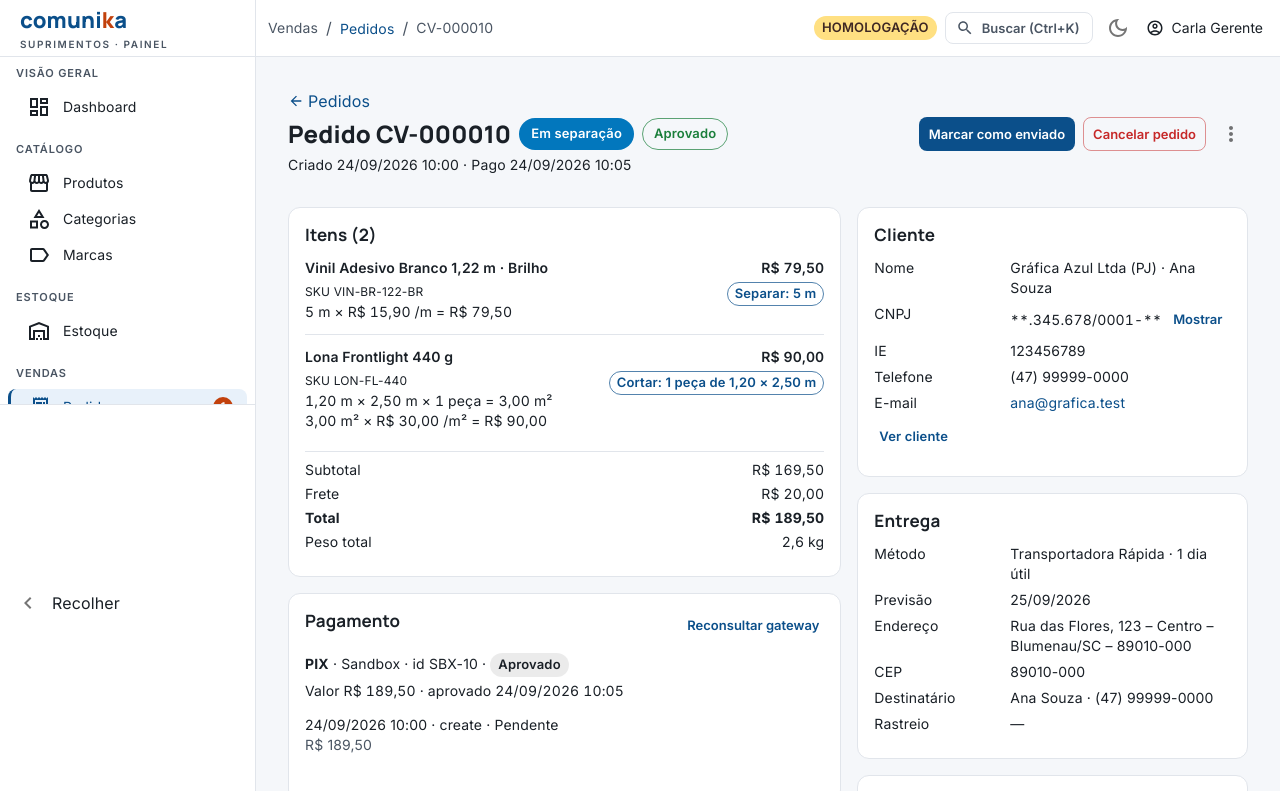
it: Detalhe do pedido › marca como enviado exigindo código de rastreio (transportadora) e posta em /transitions
The width and height of the screenshot is (1280, 791).
Click the button "Marcar como enviado" at coordinates (997, 134), box [919,117,1075,151]
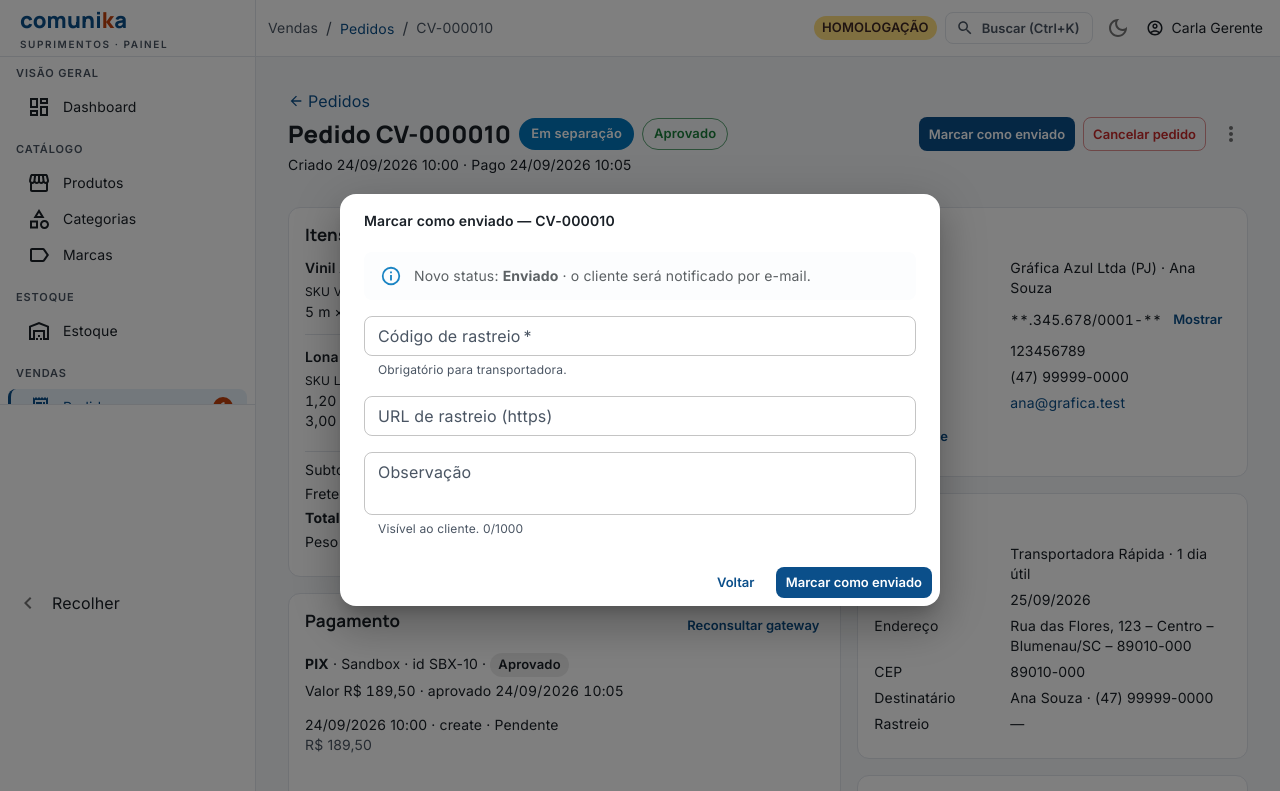
Click the button "Marcar como enviado" at coordinates (854, 583), box [776,567,932,598]
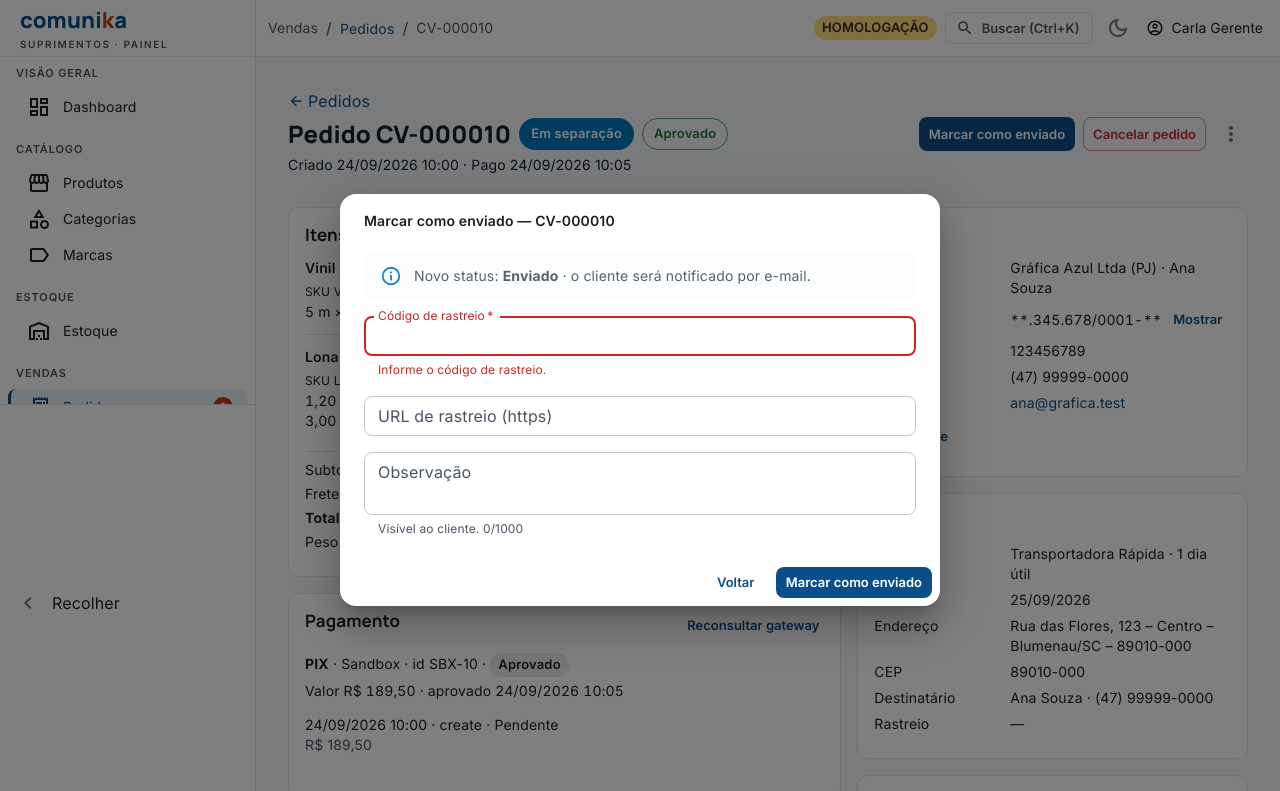
Result: the text "Informe o código de rastreio." is shown at [378,362,546,377]
Type "BR123456789" into the field labelled "Código de rastreio *" at coordinates (640, 336), box [364,316,916,356]
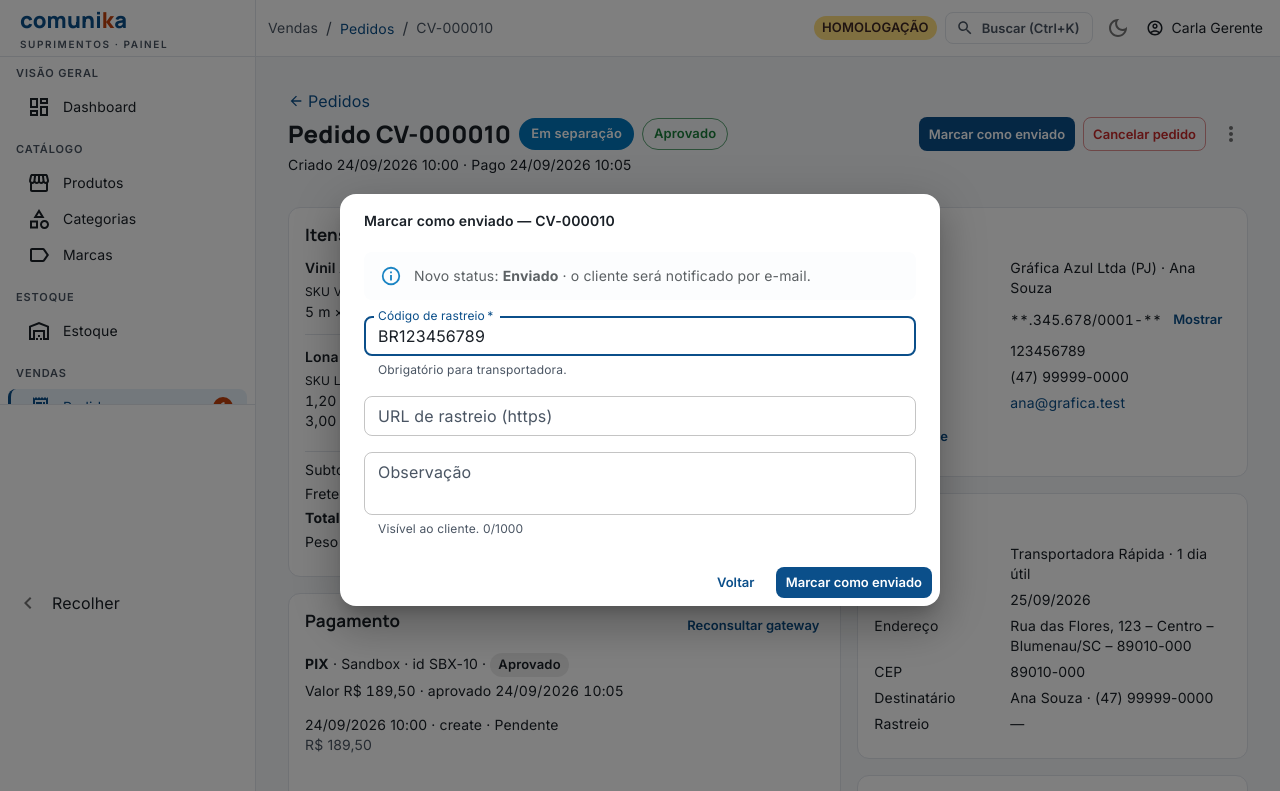
Type "https://rastreio.test/BR123456789" into the field labelled "URL de rastreio (https)" at coordinates (640, 416), box [364,396,916,436]
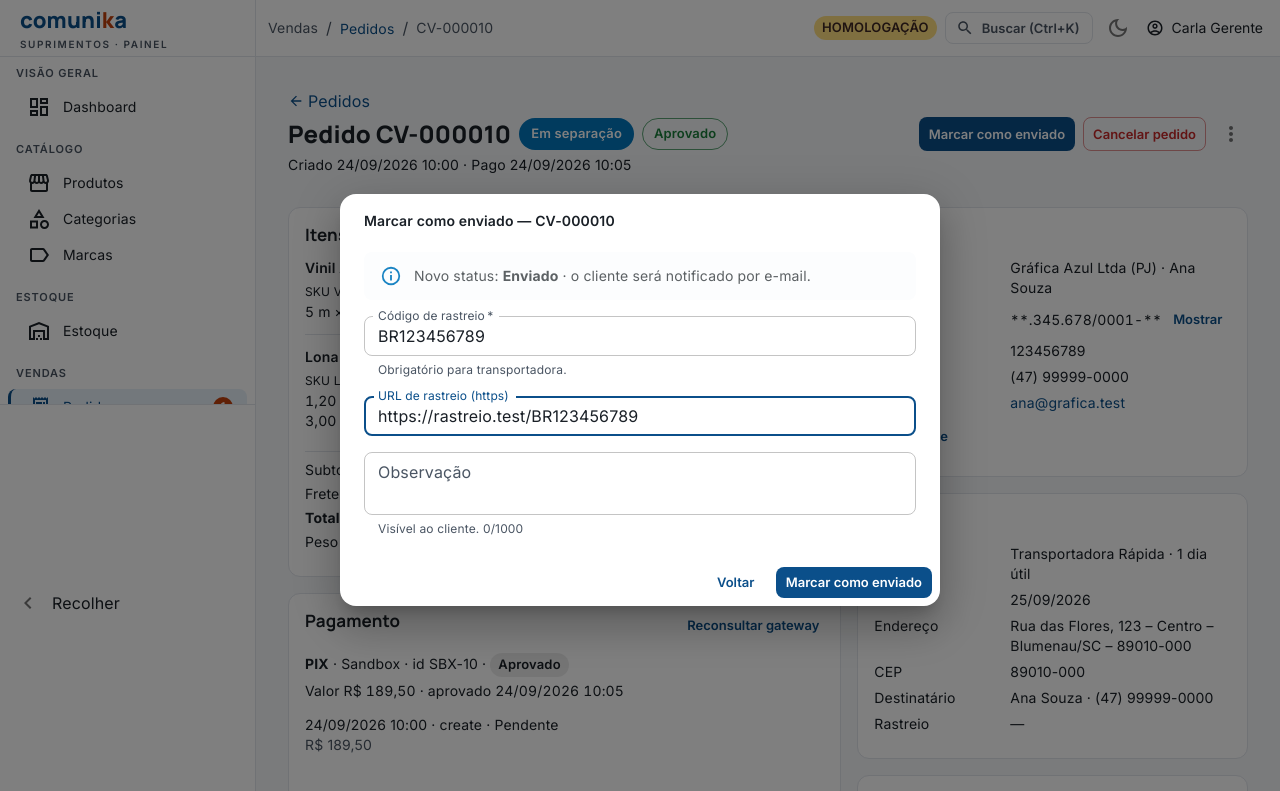
Click the button "Marcar como enviado" at coordinates (854, 583), box [776,567,932,598]
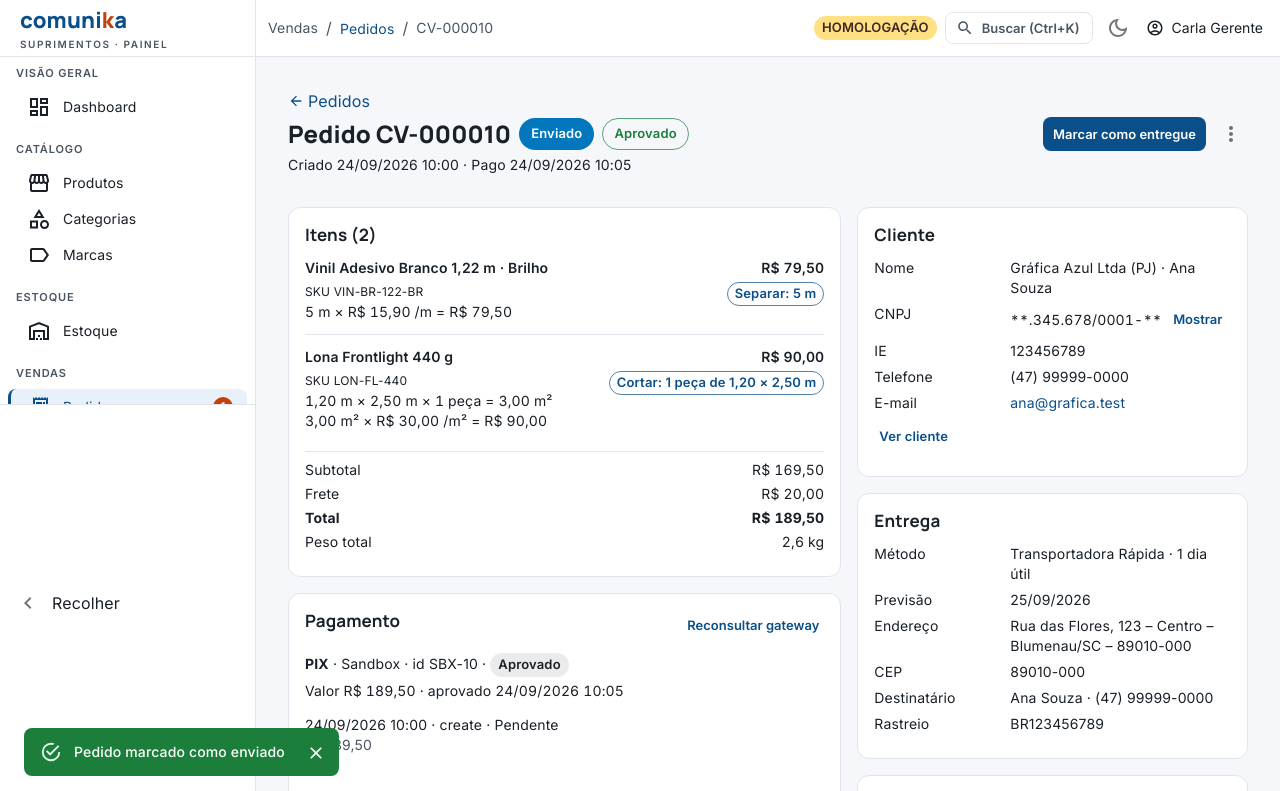
Result: the text "Pedido marcado como enviado" is shown at [74,743,285,760]
Result: the button "Marcar como entregue" is shown at [1043,117,1206,151]
